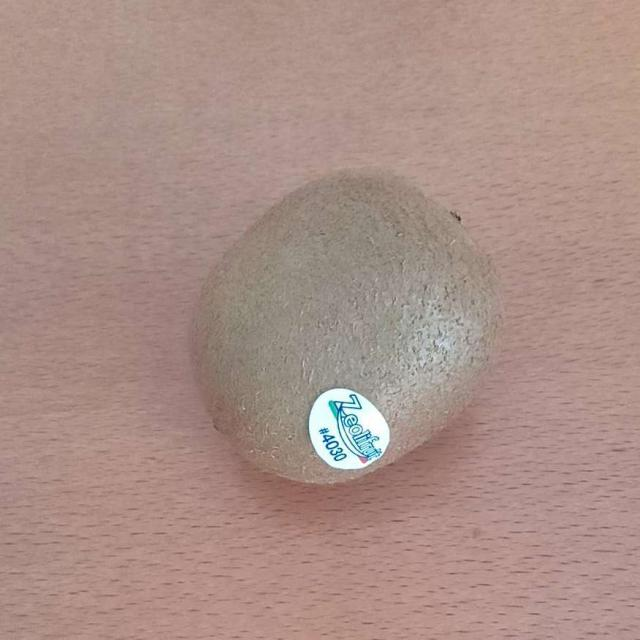kiwi: (193, 172, 495, 480)
